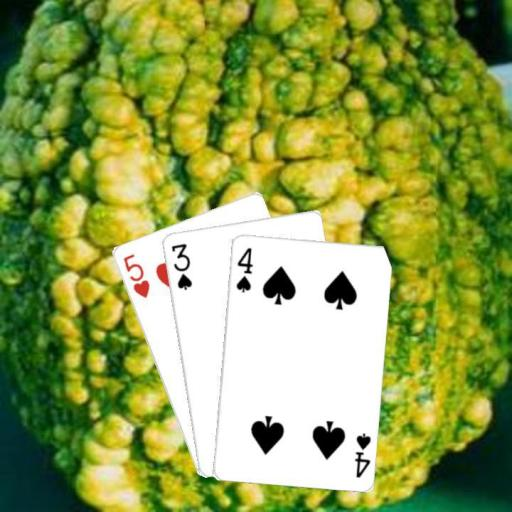3S: (168, 240, 193, 291)
4S: (232, 244, 254, 294), (351, 430, 373, 480)
5H: (119, 251, 151, 300)
